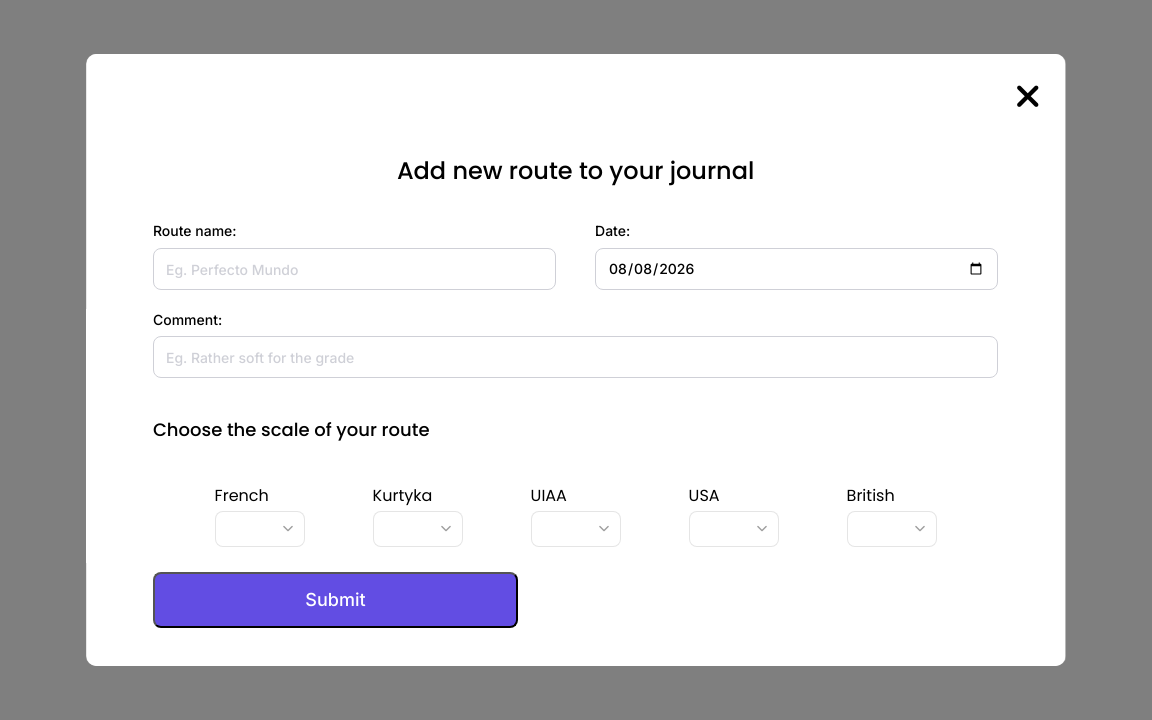
it: AddRouteModal › blocks submit and shows an error when no grade is selected
In the field labelled "Route name:": (355, 269) [153,248,557,290], type "Perfecto Mundo"
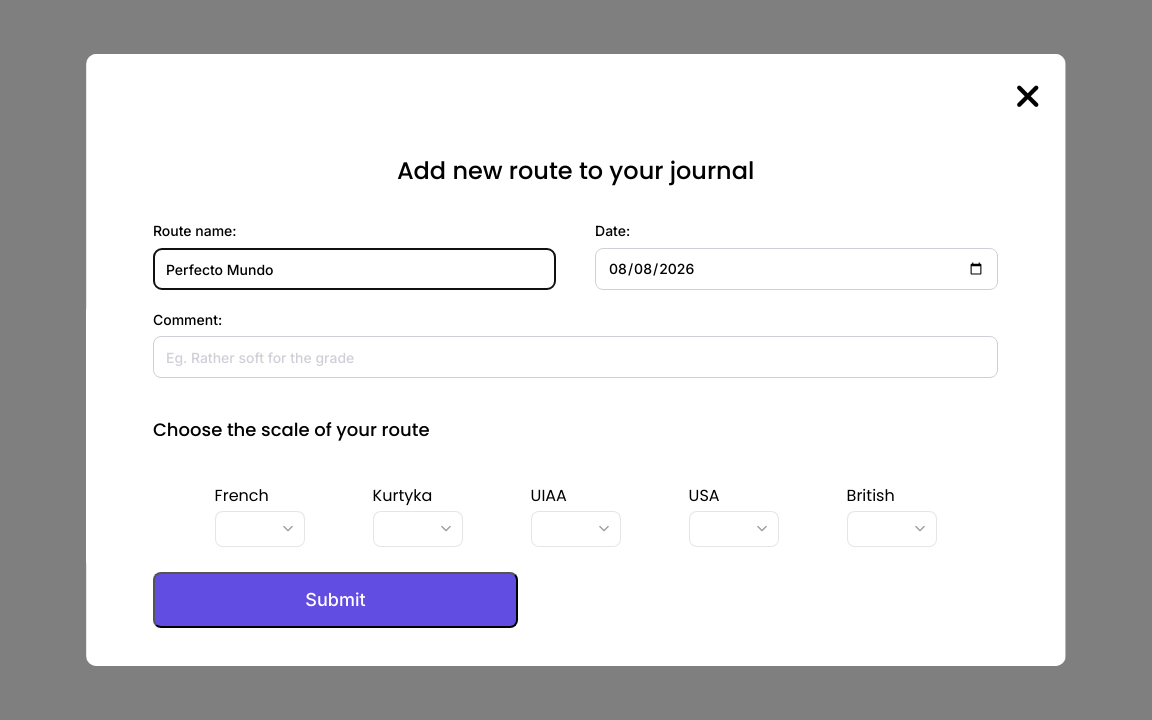
Click the button "Submit": click(336, 600) [153,572,518,628]
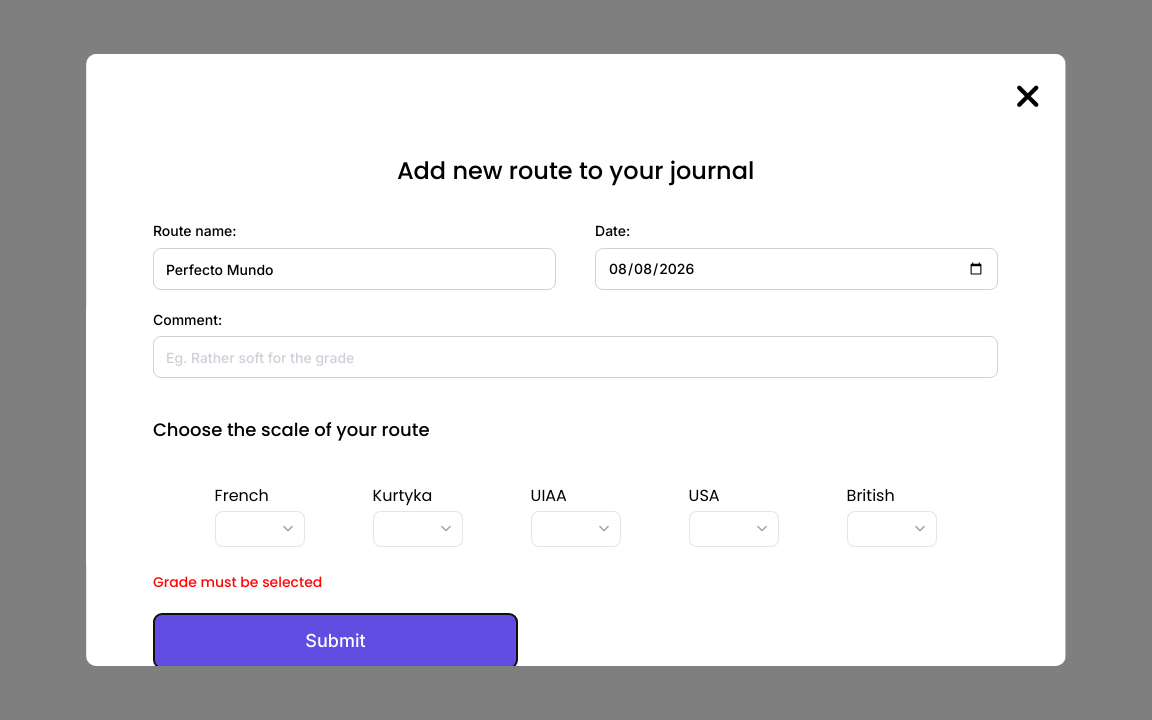
Check: the text "Grade must be selected" is shown, box [153,572,323,592]
